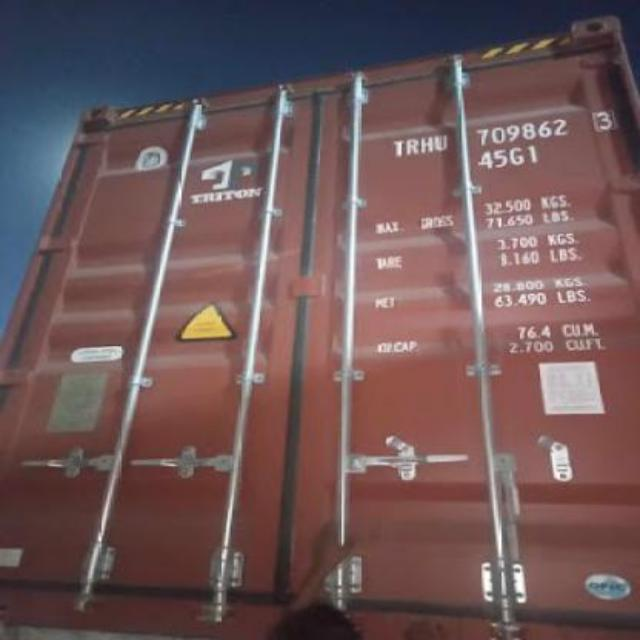0: (492, 122, 506, 144)
2: (554, 112, 576, 140)
3: (588, 111, 618, 131)
6: (536, 116, 554, 144)
7: (476, 128, 488, 148)
8: (522, 120, 538, 142)
9: (504, 117, 526, 147)
H: (416, 132, 436, 156)
R: (408, 138, 420, 158)
T: (388, 136, 404, 158)
U: (432, 129, 460, 153)
